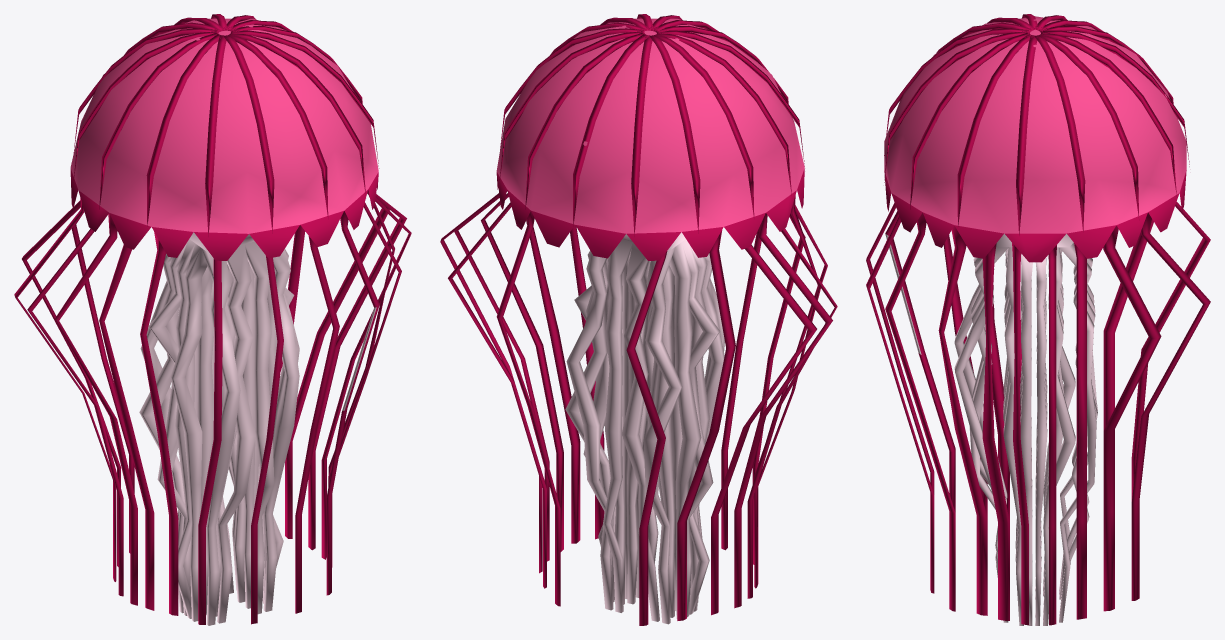
File: NOVELO_JELLYFISH.obj
The picture shows the model from 3 angles, left to right: view 1: azimuth 30°, elevation 25°; view 2: azimuth 150°, elevation 25°; view 3: azimuth 270°, elevation 25°; orthographic projection.
Visible parts, largest first — view 1: Null.1; view 2: Null.1; view 3: Null.1.
Part boxes in pixels (x1,y1,x2,y2): Null.1: (14, 14, 411, 625); Null.1: (440, 14, 837, 625); Null.1: (866, 14, 1210, 625).
Bounding box in the file's own units: 283 × 411 × 223.
